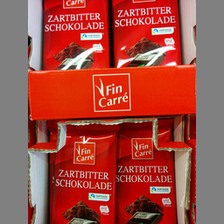chocolate: (47, 121, 120, 224), (115, 119, 175, 224), (109, 1, 184, 67), (43, 1, 111, 68)
